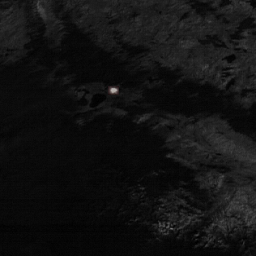Target: (107, 85, 118, 94)
